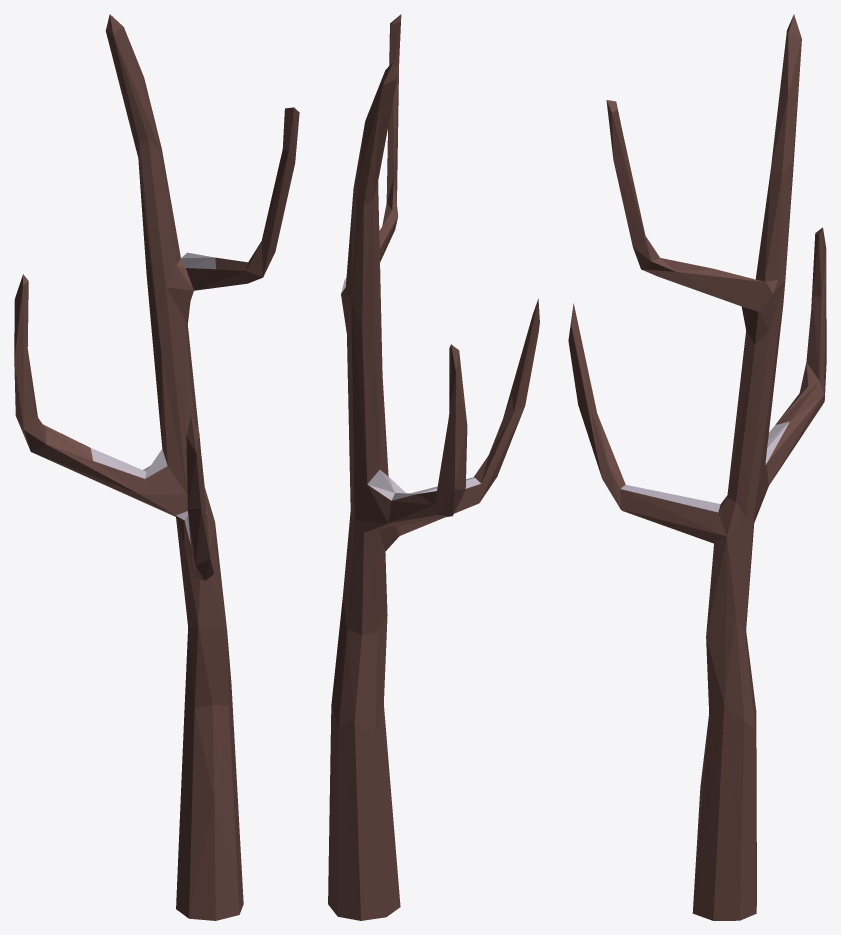
The model's file is CommonTree_Dead_Snow_3.lod2.glb.
The picture shows the model from 3 angles, left to right: view 1: azimuth 30°, elevation 25°; view 2: azimuth 150°, elevation 25°; view 3: azimuth 270°, elevation 25°; orthographic projection. The views are drawn at different scales.
Visible parts, largest first — view 1: CommonTree_Dead_Snow_3; view 2: CommonTree_Dead_Snow_3; view 3: CommonTree_Dead_Snow_3.
Part boxes in pixels (x1,y1,x2,y2): CommonTree_Dead_Snow_3: (14, 14, 299, 920); CommonTree_Dead_Snow_3: (328, 14, 539, 920); CommonTree_Dead_Snow_3: (568, 14, 826, 920).
Size of the model in its own units: 0.6429 by 3 by 0.8116.
